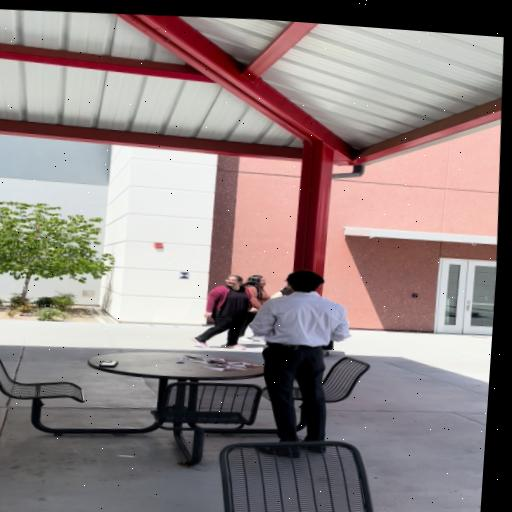target6: (178, 271, 189, 279)
